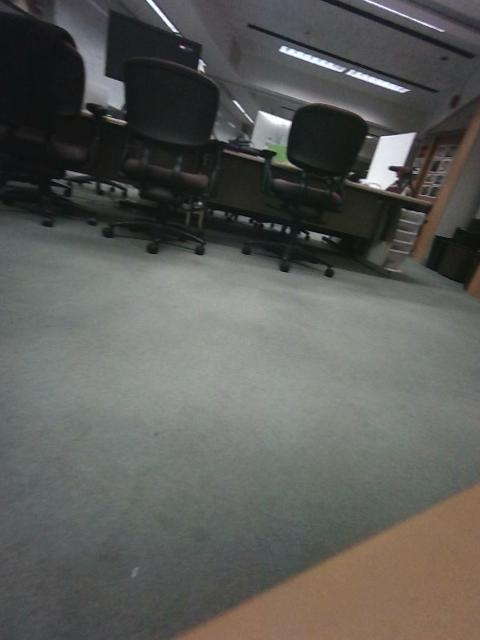block: (111, 293, 169, 327)
